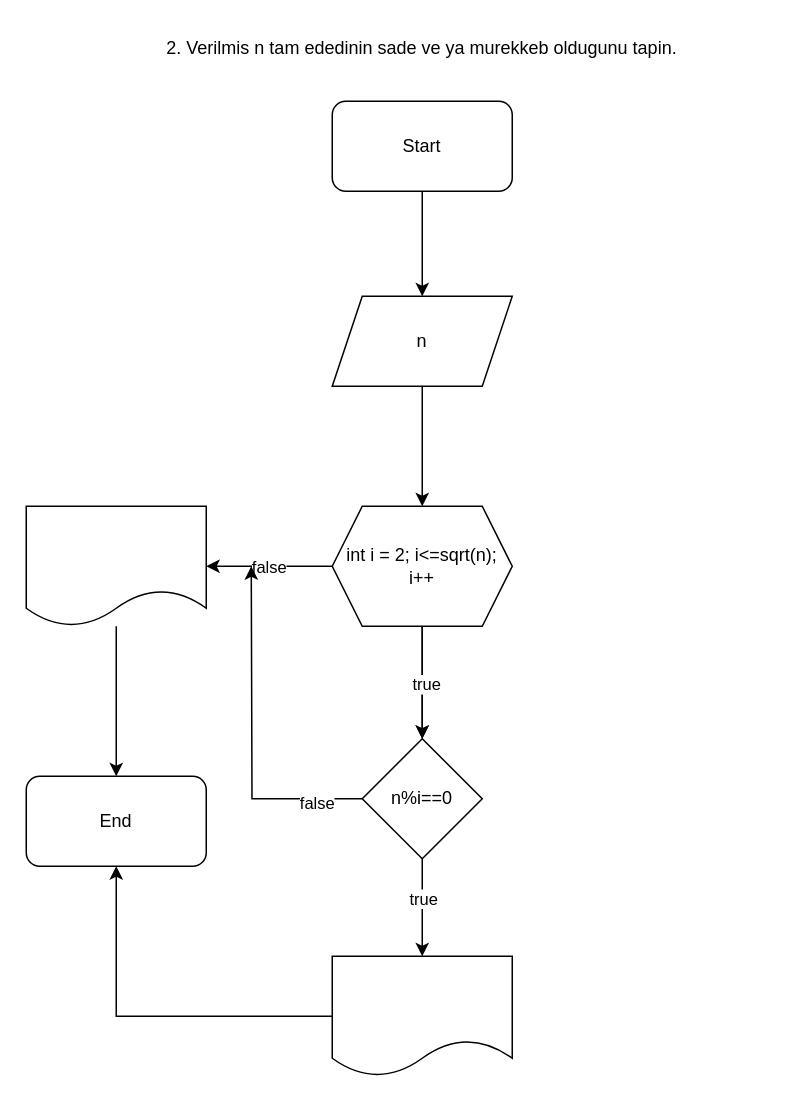
This 801x1103 diagram has some shape labels left out. The shapes that lost their labels are listed below. From the top down, each one's centre as x and y in pixels, then its label:
pixel 115 565: n sade
pixel 421 1015: n murekkeb
